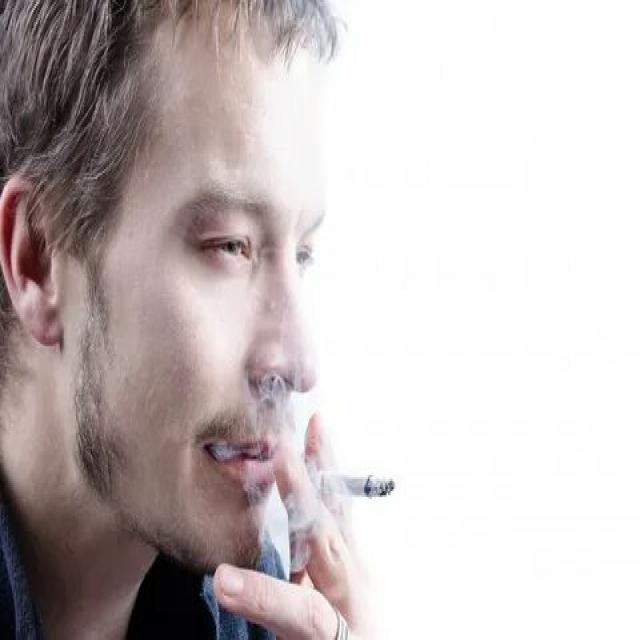smoke: (322, 463, 406, 507)
